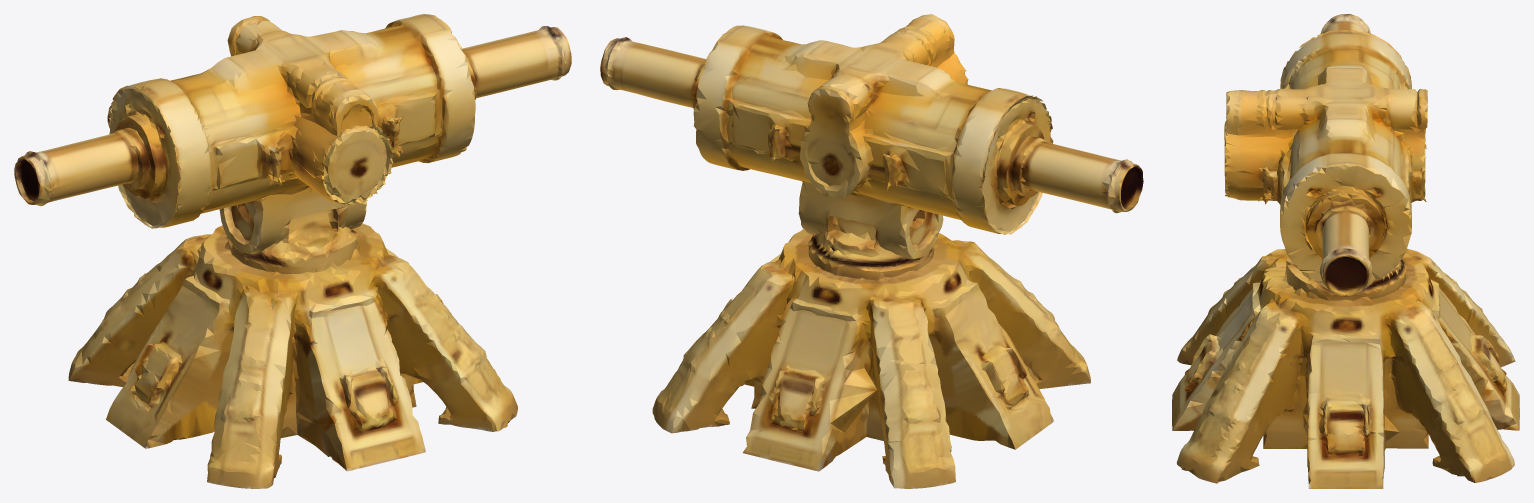
The model's file is valkyrie_weapon_secondary.glb.
3 renders of one model, left to right at view 1: azimuth 30°, elevation 25°; view 2: azimuth 150°, elevation 25°; view 3: azimuth 270°, elevation 25°, orthographic. The views are drawn at different scales.
Visible parts, largest first — view 1: valkyrie_weapon_secondary; view 2: valkyrie_weapon_secondary; view 3: valkyrie_weapon_secondary.
Boxes of the visible parts, <box> form: valkyrie_weapon_secondary: <box>14,14,571,488</box>; valkyrie_weapon_secondary: <box>600,14,1143,488</box>; valkyrie_weapon_secondary: <box>1172,14,1519,488</box>.
Size of the model in its own units: 1.89 by 1.18 by 1.15.
Materials: 1 (1 with a texture image).
